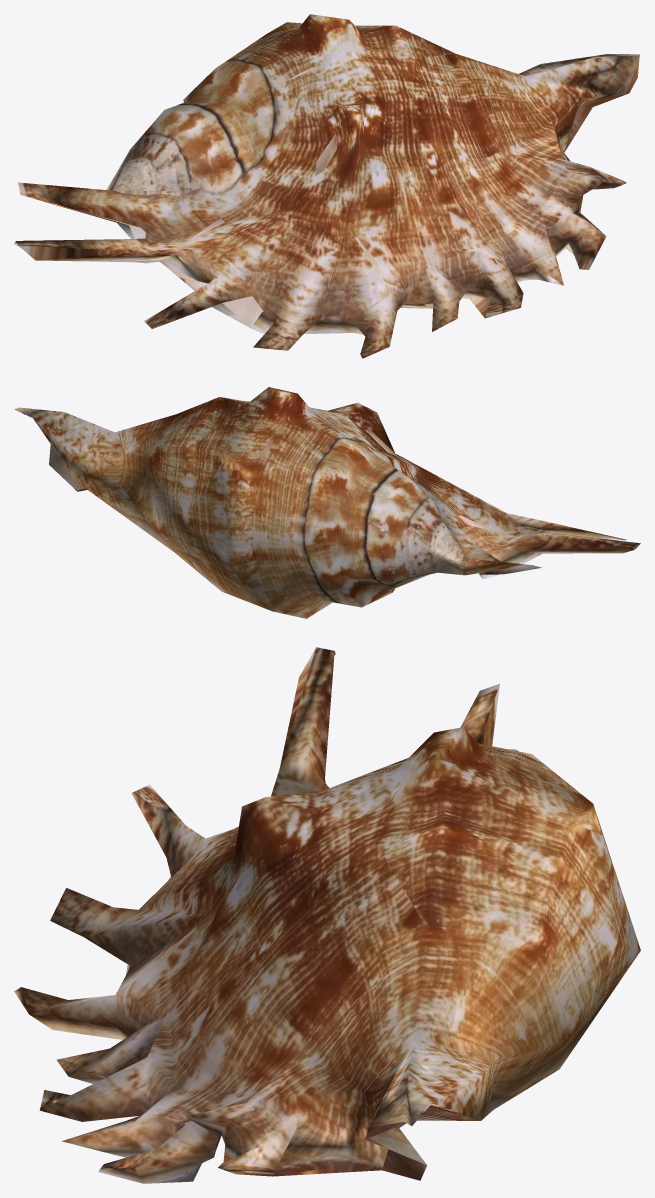
The model's file is lambis_shell.glb.
3 views of the same model, one above another, from view 1: azimuth 30°, elevation 25°; view 2: azimuth 150°, elevation 25°; view 3: azimuth 270°, elevation 25° (orthographic). The views are drawn at different scales.
Parts seen in each view (by area): view 1: lambis_shell; view 2: lambis_shell; view 3: lambis_shell.
Boxes of the visible parts, x1,y1,x2,y2 form: lambis_shell: (14, 14, 640, 358); lambis_shell: (14, 387, 640, 618); lambis_shell: (14, 647, 640, 1183).
Bounding box in the file's own units: 0.1387 × 0.0454 × 0.0744.
1 material, 1 textured.
